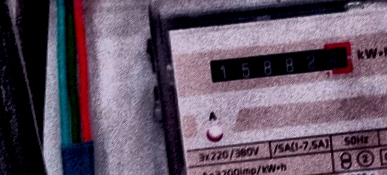1: (215, 59, 227, 78)
2: (303, 50, 315, 69)
5: (237, 58, 250, 76)
7: (325, 55, 337, 67)
8: (258, 56, 271, 74), (281, 53, 293, 72)
screen: (199, 36, 357, 89)
